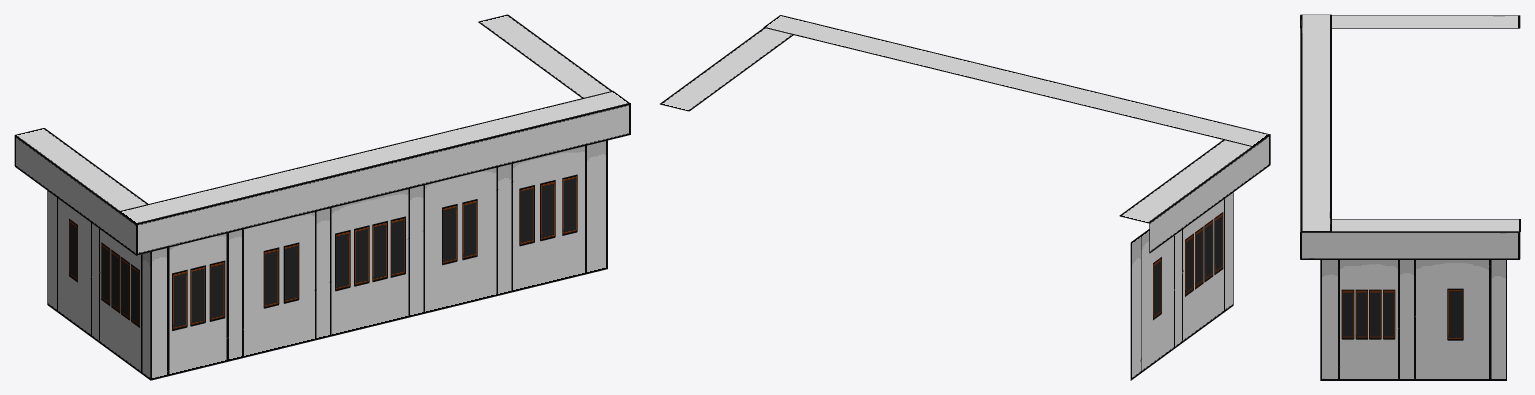
File: 5th Floor Middle Part.gltf
The picture shows the model from 3 angles, left to right: view 1: azimuth 30°, elevation 25°; view 2: azimuth 150°, elevation 25°; view 3: azimuth 270°, elevation 25°; orthographic projection. The views are drawn at different scales.
Parts seen in each view (by area): view 1: default; view 2: default; view 3: default.
Part boxes in pixels (<box>): default: <box>14,14,630,380</box>; default: <box>660,15,1270,380</box>; default: <box>1300,14,1520,380</box>.
Bounding box in the file's own units: 65.88 × 21.88 × 28.44.
1 material, 1 textured.
